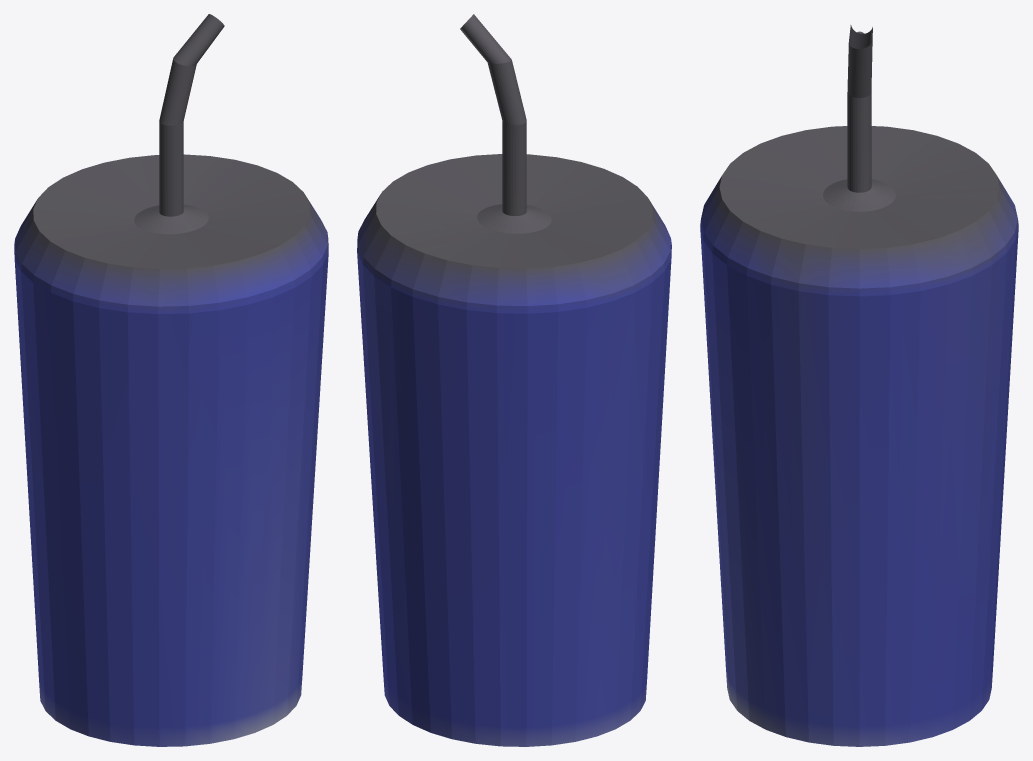
The model's file is drink.gltf.
3 renders of one model, left to right at view 1: azimuth 30°, elevation 25°; view 2: azimuth 150°, elevation 25°; view 3: azimuth 270°, elevation 25°, orthographic. The views are drawn at different scales.
Parts seen in each view (by area): view 1: Cylinder.014; view 2: Cylinder.014; view 3: Cylinder.014.
Boxes of the visible parts, x1,y1,x2,y2 form: Cylinder.014: (14,14,328,746); Cylinder.014: (357,14,671,746); Cylinder.014: (700,25,1018,746).
Bounding box in the file's own units: 0.877 × 2.02 × 0.8394.
